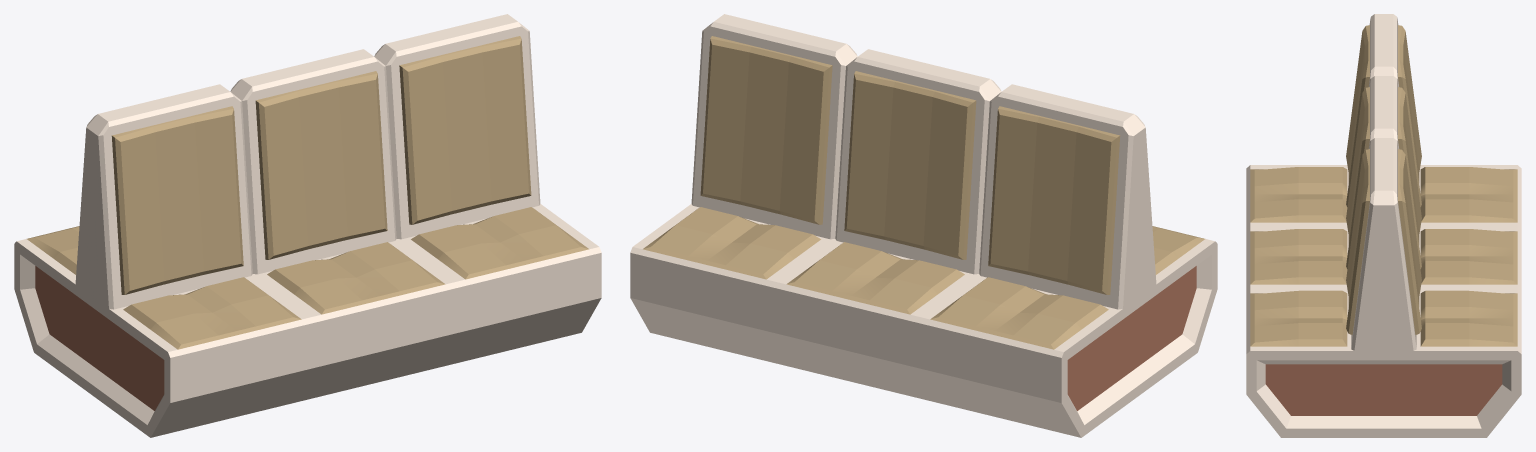
File: Public Chair.fbx
The picture shows the model from 3 angles, left to right: view 1: azimuth 30°, elevation 25°; view 2: azimuth 150°, elevation 25°; view 3: azimuth 270°, elevation 25°; orthographic projection. The views are drawn at different scales.
Parts seen in each view (by area): view 1: Public Chair; view 2: Public Chair; view 3: Public Chair.
Boxes of the visible parts, <box> form: Public Chair: <box>14,14,601,437</box>; Public Chair: <box>630,14,1217,437</box>; Public Chair: <box>1246,14,1521,437</box>.
Bounding box in the file's own units: 2.23 × 1.4 × 1.36.
